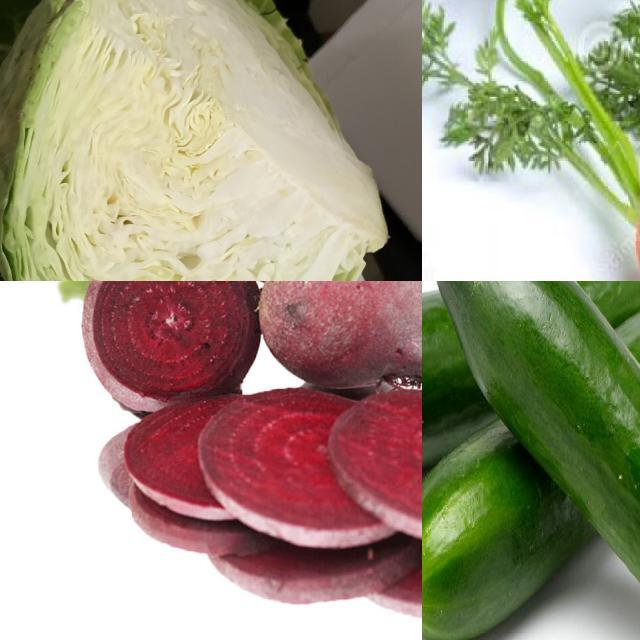beet: (254, 282, 423, 405), (87, 282, 257, 403)
cabbage: (1, 1, 392, 282)
cucumber: (423, 294, 640, 640), (433, 282, 640, 640), (423, 282, 640, 483)
